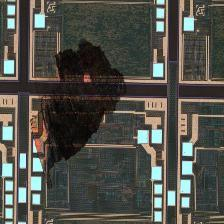PARTICLE: (30, 38, 131, 191)
